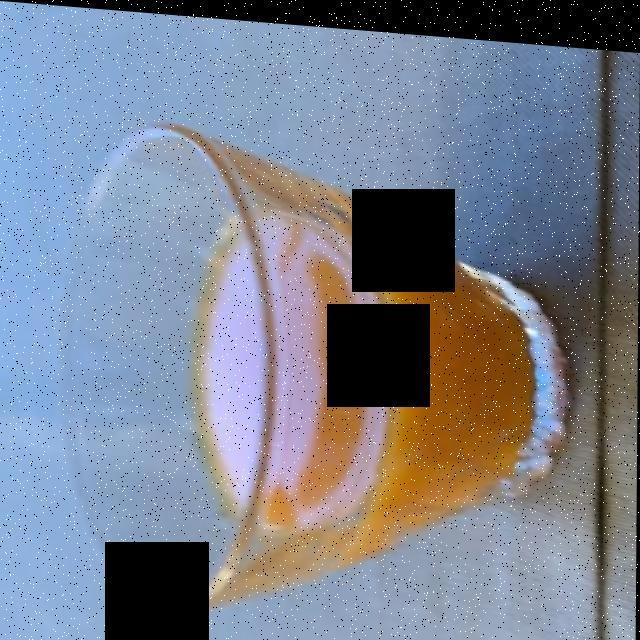juice: (199, 179, 547, 569)
